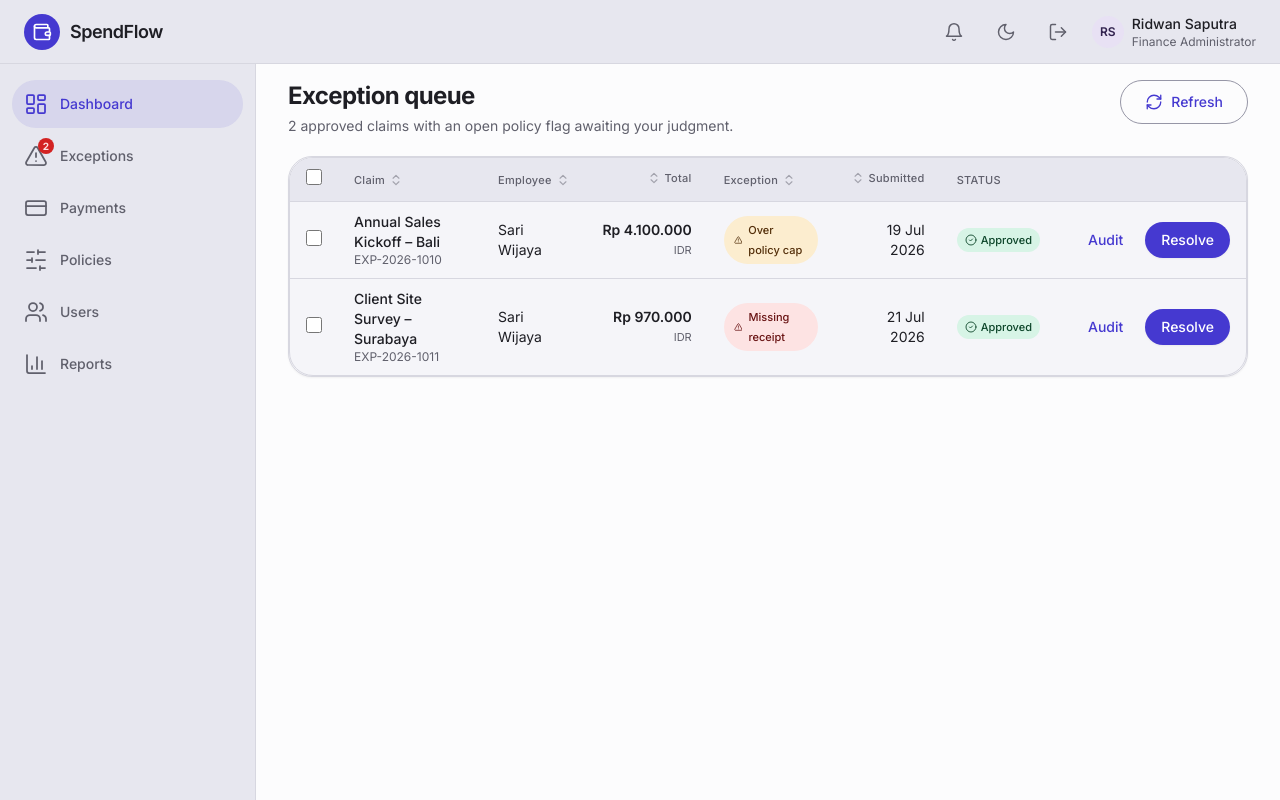
Scenario: Exception queue — renders from API client, filters open flags › shows an empty state once every flag is resolved (next read drains the queue)
Expected: the text "EXP-2026-1010" is shown, [354,252,442,267]
# Trigger a fresh read of the API client (retry button).
Click the button with aria-label "retry": (1184, 102) [1120,80,1248,124]
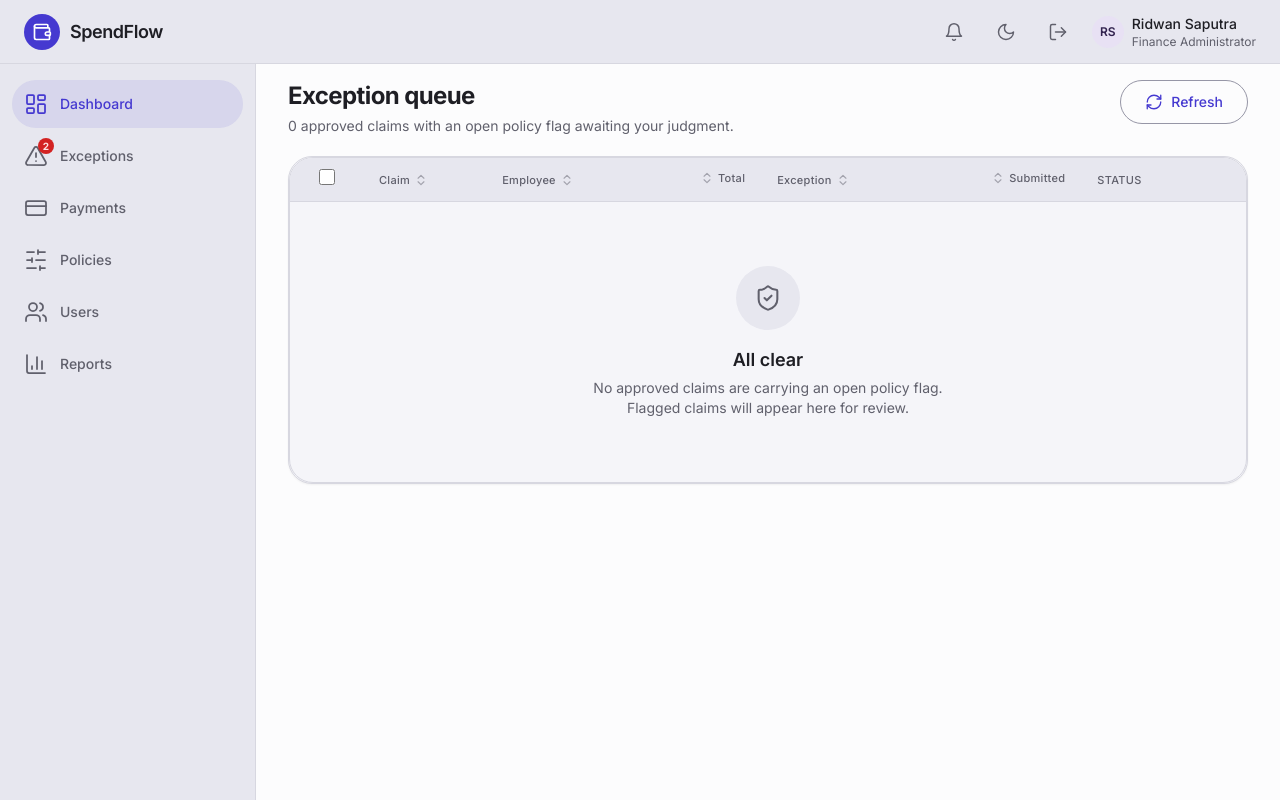
Expected: the heading "All clear" is shown, [733,346,803,374]
